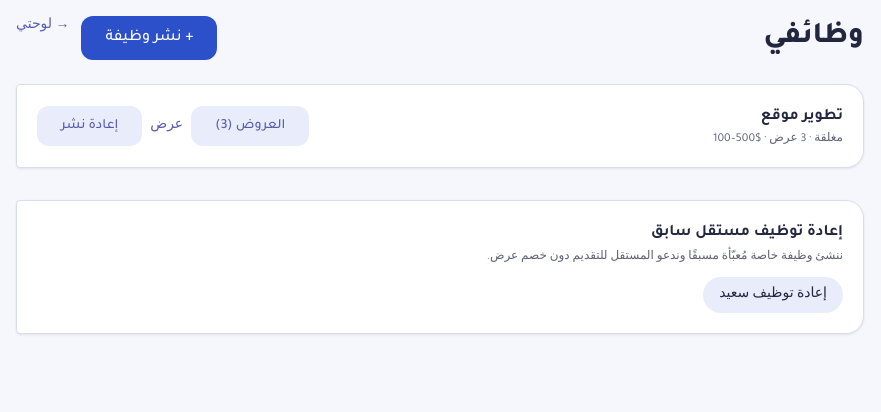
Scenario: MyJobsPage › rehires a past worker via /me/rehire
The width and height of the screenshot is (881, 412).
Click the button "إعادة توظيف سعيد". click: coordinates (773, 295)
box: left=703, top=277, right=843, bottom=313
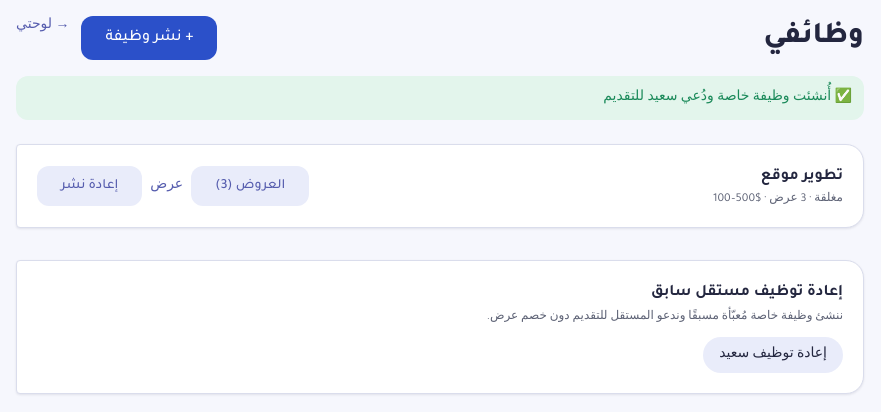
Result: the text "✅ أُنشئت وظيفة خاصة ودُعي سعيد للتقديم" is shown at left=16, top=76, right=864, bottom=120
